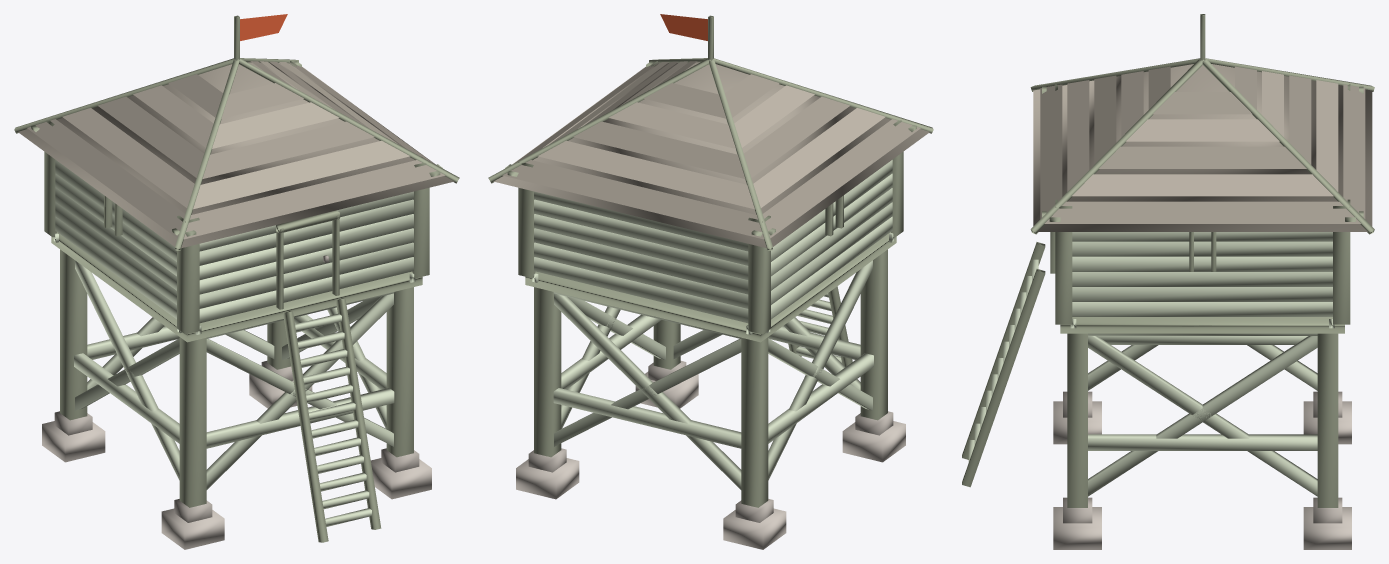
File: Kuningriigid_puidust_vahitorn.glb
3 views of the same model, side by side, from view 1: azimuth 30°, elevation 25°; view 2: azimuth 150°, elevation 25°; view 3: azimuth 270°, elevation 25° (orthographic). The views are drawn at different scales.
Parts seen in each view (by area): view 1: beam_mesh, wood_mesh, wood2_mesh, shingle2_mesh, shingle_mesh, roof_mesh, stone_mesh, stone2_mesh, banner_mesh; view 2: beam_mesh, wood_mesh, wood2_mesh, shingle2_mesh, shingle_mesh, roof_mesh, stone_mesh, stone2_mesh, banner_mesh; view 3: beam_mesh, shingle2_mesh, wood2_mesh, shingle_mesh, wood_mesh, roof_mesh, stone_mesh, stone2_mesh.
Part boxes in pixels (x1=…): beam_mesh: x1=14, y1=15, x2=459, y2=542; wood_mesh: x1=53, y1=173, x2=415, y2=526; wood2_mesh: x1=55, y1=160, x2=413, y2=489; shingle2_mesh: x1=27, y1=61, x2=445, y2=239; shingle_mesh: x1=62, y1=61, x2=409, y2=209; roof_mesh: x1=18, y1=62, x2=454, y2=247; stone_mesh: x1=42, y1=374, x2=431, y2=549; stone2_mesh: x1=54, y1=255, x2=419, y2=522; banner_mesh: x1=240, y1=14, x2=287, y2=40; beam_mesh: x1=488, y1=15, x2=933, y2=507; wood_mesh: x1=532, y1=173, x2=894, y2=448; wood2_mesh: x1=534, y1=160, x2=892, y2=489; shingle2_mesh: x1=502, y1=61, x2=920, y2=239; shingle_mesh: x1=538, y1=61, x2=885, y2=209; roof_mesh: x1=493, y1=62, x2=929, y2=247; stone_mesh: x1=516, y1=371, x2=905, y2=549; stone2_mesh: x1=528, y1=361, x2=893, y2=522; banner_mesh: x1=660, y1=14, x2=707, y2=40; beam_mesh: x1=962, y1=14, x2=1374, y2=507; shingle2_mesh: x1=1040, y1=66, x2=1365, y2=223; wood2_mesh: x1=1072, y1=232, x2=1332, y2=496; shingle_mesh: x1=1067, y1=71, x2=1338, y2=196; wood_mesh: x1=968, y1=256, x2=1334, y2=462; roof_mesh: x1=1033, y1=64, x2=1372, y2=231; stone_mesh: x1=1053, y1=401, x2=1351, y2=549; stone2_mesh: x1=1063, y1=391, x2=1342, y2=523.
Size of what is drawn, in the model's own units: 4.98 by 7.53 by 5.97.
